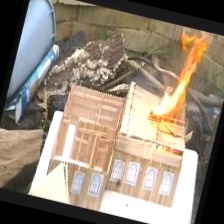fire: (144, 24, 215, 128)
